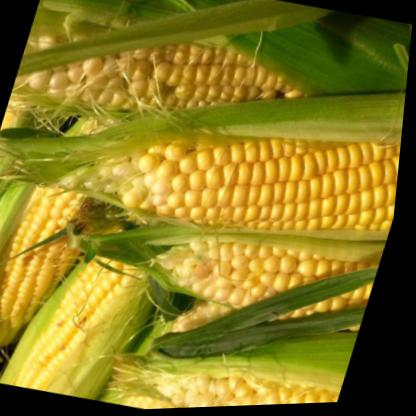---: (106, 70, 410, 278), (5, 0, 342, 166), (132, 209, 390, 338), (4, 228, 170, 408), (0, 127, 125, 361), (146, 336, 356, 411)
